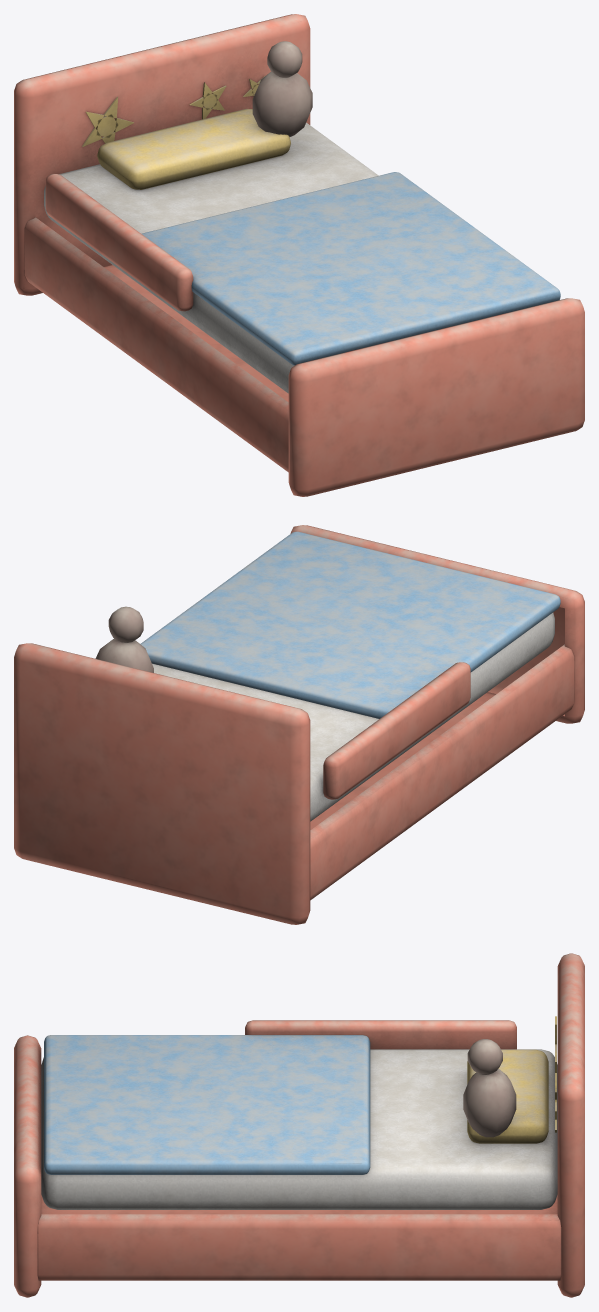
Rendered from kid_bed.fbx.
3 views of the same model, one above another, from view 1: azimuth 30°, elevation 25°; view 2: azimuth 150°, elevation 25°; view 3: azimuth 270°, elevation 25° (orthographic).
Visible parts, largest first — view 1: Body; view 2: Body; view 3: Body.
Boxes of the visible parts, left/top/right/bottom form: Body: left=14, top=14, right=584, bottom=496; Body: left=14, top=525, right=584, bottom=924; Body: left=14, top=953, right=584, bottom=1297.
Size of the model in its own units: 3.7 by 2.8 by 6.3.
1 material, 1 textured.
